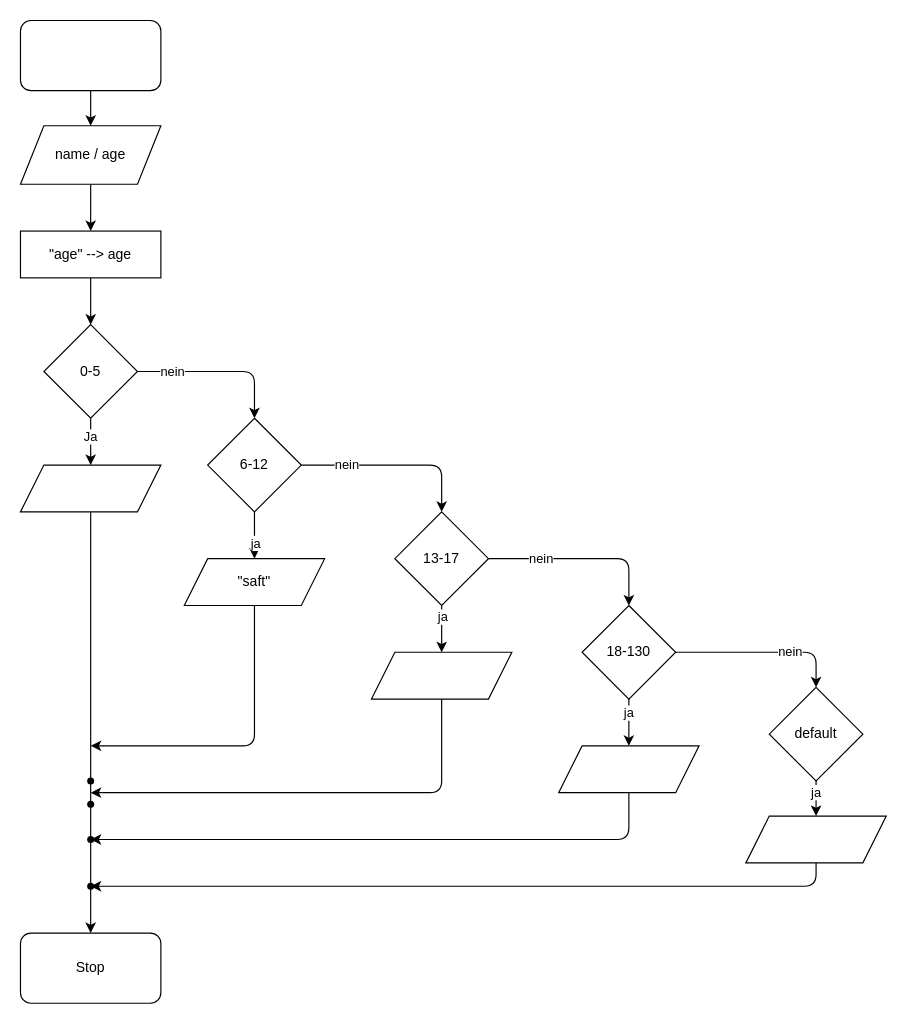
This 907x1024 diagram has some shape labels left out. Each missing label, with the box of its shape:
"cola": (370, 651, 512, 699)
"milch": (19, 464, 161, 512)
"tee": (745, 815, 886, 863)
"wein": (558, 745, 699, 793)
Start: (19, 19, 161, 91)
